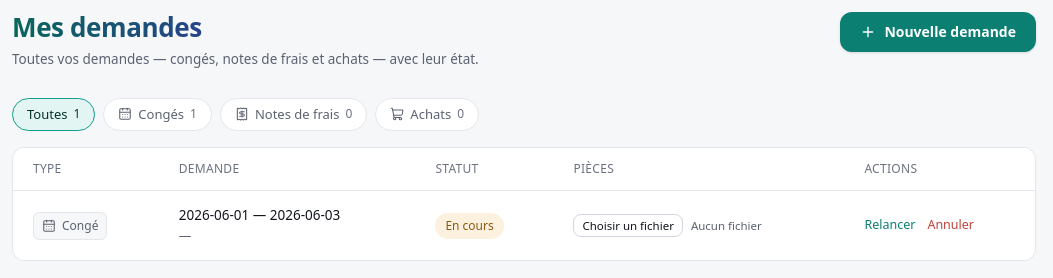
Test: MesDemandesPage — congés › annuler une demande recharge la liste
The image size is (1053, 278).
Click the button "Annuler": (951, 226) [927, 216, 974, 235]
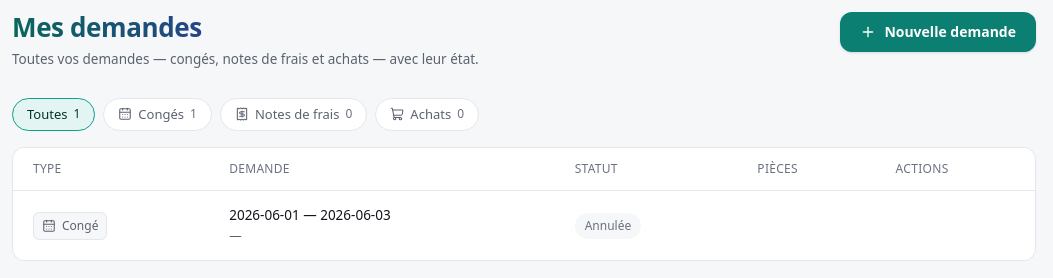
Expected: the text "Annulée" is shown, [575, 212, 641, 238]
